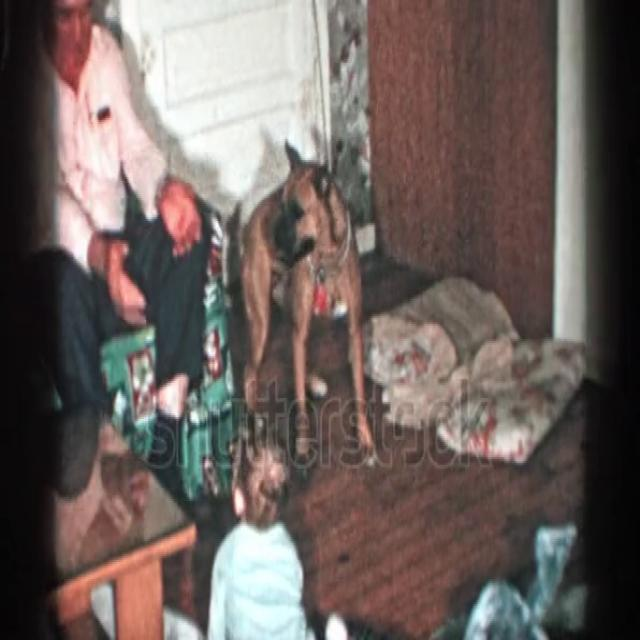normal_animals: (232, 136, 379, 470)
